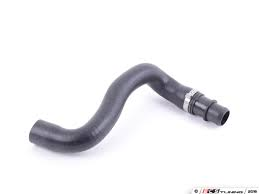radiator_hose: (29, 63, 230, 153)
